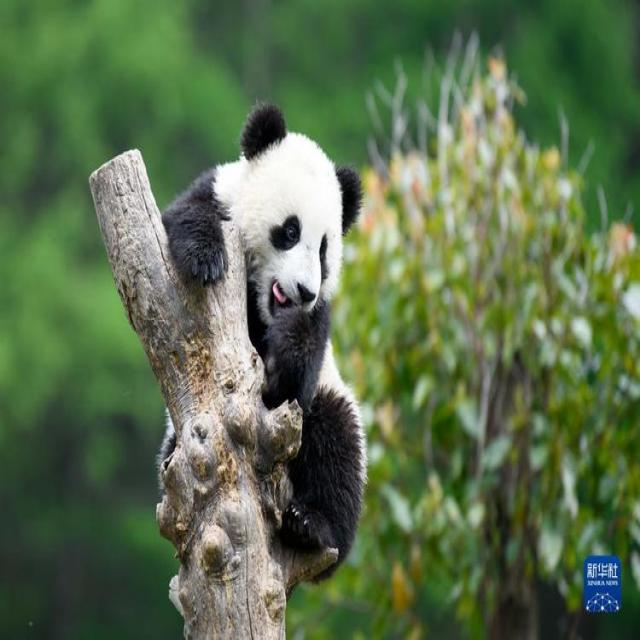panda: (146, 100, 369, 589)
